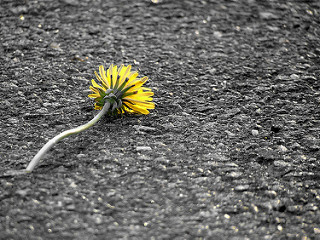dandelion: (83, 57, 159, 124)
